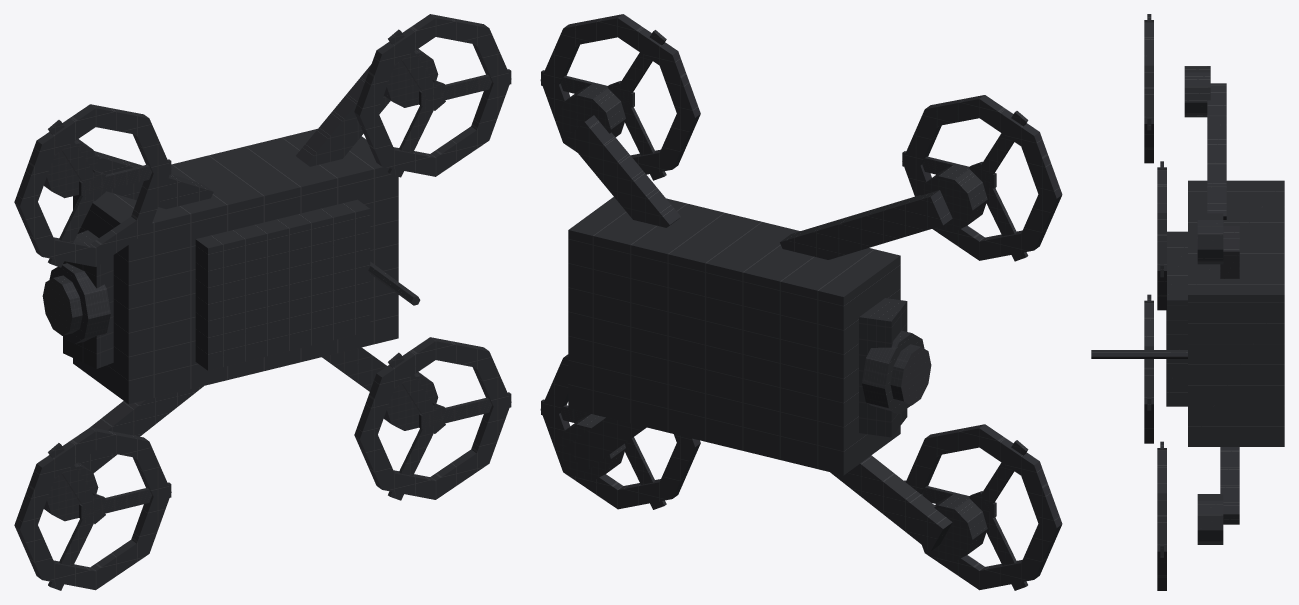
The model's file is drone_variant_01_scout.obj.
3 renders of one model, left to right at view 1: azimuth 30°, elevation 25°; view 2: azimuth 150°, elevation 25°; view 3: azimuth 270°, elevation 25°, orthographic. The views are drawn at different scales.
Bounding box in the file's own units: 0.638 × 0.5871 × 0.246.
1 material, 1 textured.
